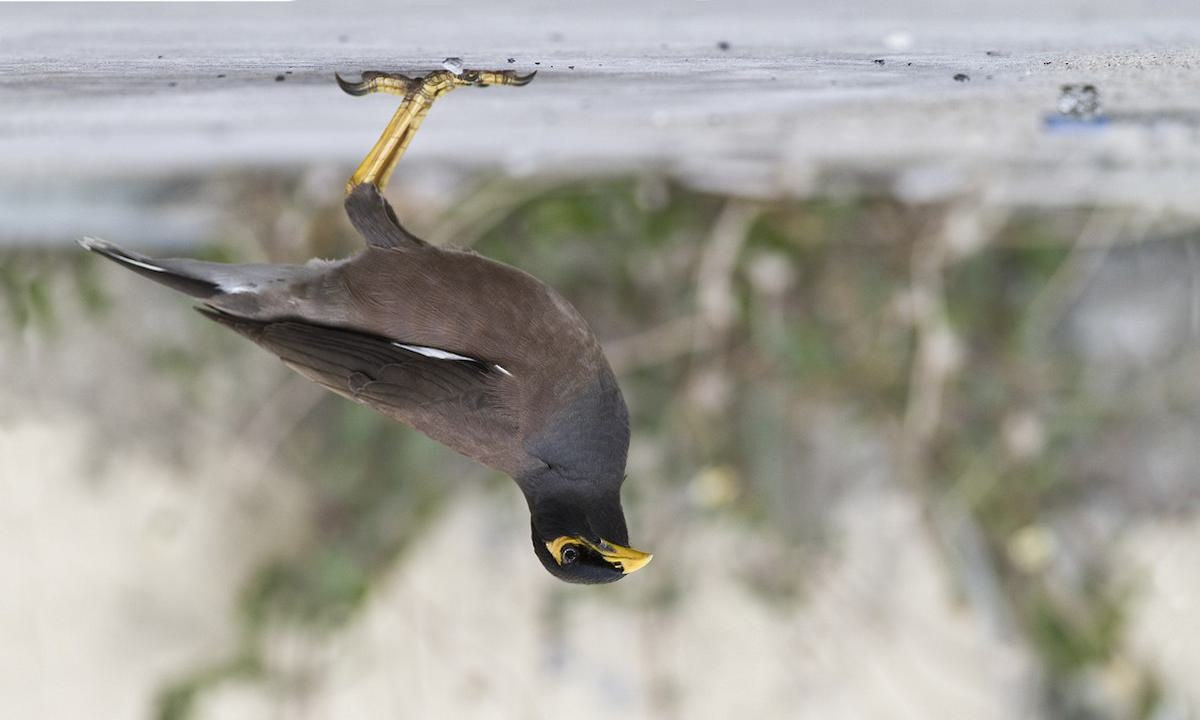myna: (126, 83, 677, 622)
